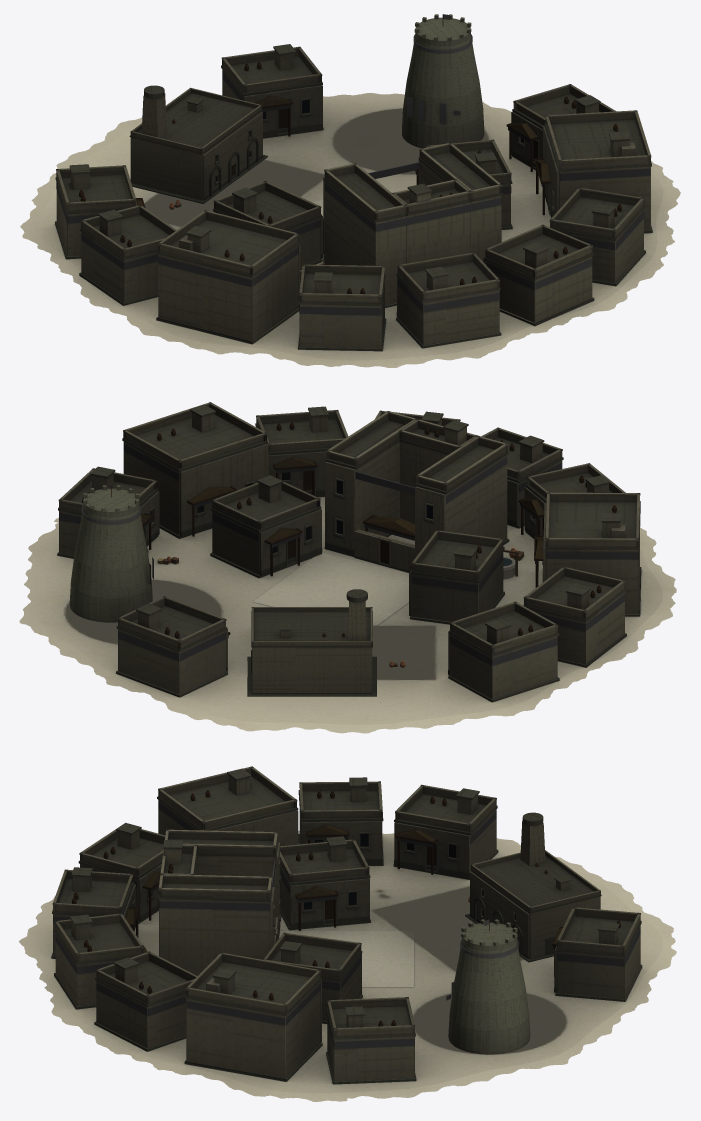
Rendered from classical-town-medium-a-eastafrica-c3a30f1a.glb.
3 views of the same model, one above another, from view 1: azimuth 30°, elevation 25°; view 2: azimuth 150°, elevation 25°; view 3: azimuth 270°, elevation 25° (orthographic).
Visible parts, largest first — view 1: LOD0; view 2: LOD0; view 3: LOD0.
Part boxes in pixels (box(x1,y1,x2,y2)): LOD0: box(20, 14, 680, 367); LOD0: box(19, 402, 676, 733); LOD0: box(19, 766, 676, 1101).
Size of what is drawn, in the model's own units: 5.95 by 1.2 by 6.05.
Materials: 3 (3 with a texture image).
